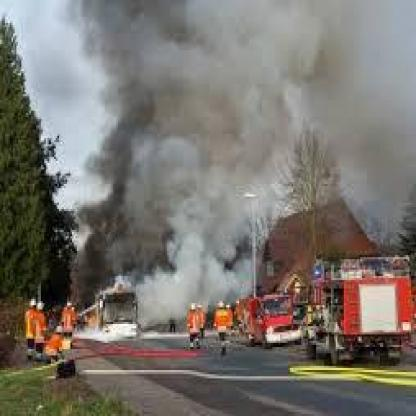smoke: (55, 1, 304, 315)
